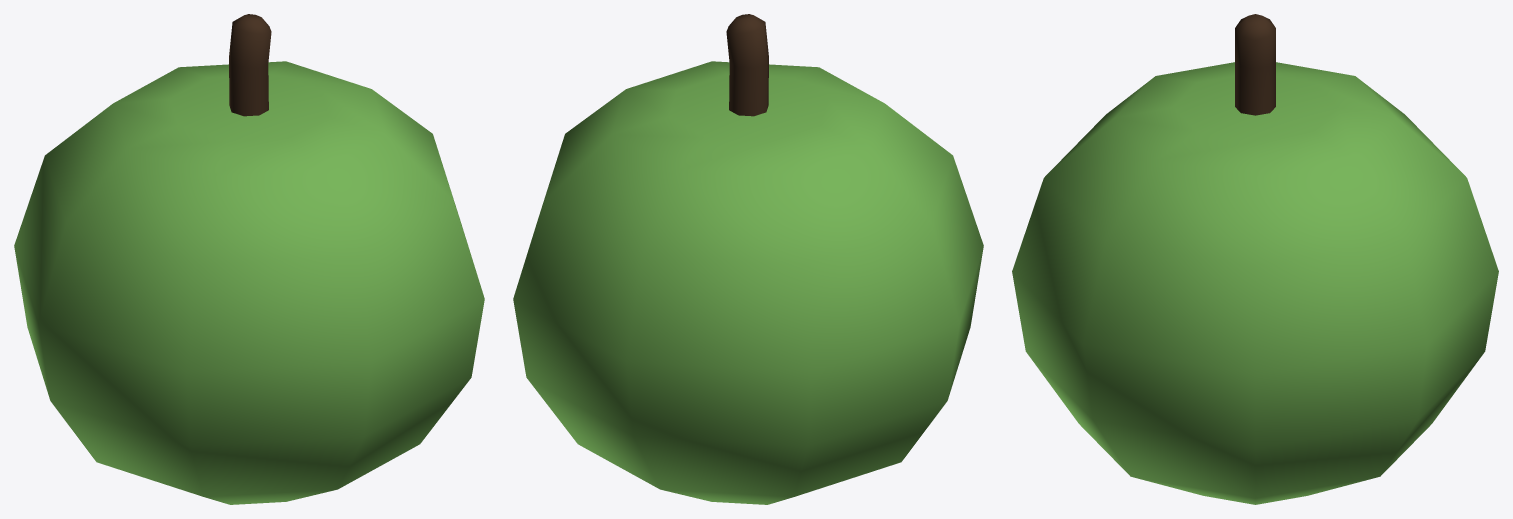
The model's file is Apple_01_Green.fbx.
3 views of the same model, side by side, from view 1: azimuth 30°, elevation 25°; view 2: azimuth 150°, elevation 25°; view 3: azimuth 270°, elevation 25° (orthographic).
Parts seen in each view (by area): view 1: Apple_01_Green; view 2: Apple_01_Green; view 3: Apple_01_Green.
Part boxes in pixels (x1,y1,x2,y2): Apple_01_Green: (14,14,484,504); Apple_01_Green: (513,14,983,504); Apple_01_Green: (1012,14,1498,504).
Bounding box in the file's own units: 0.2388 × 0.2477 × 0.2388.
